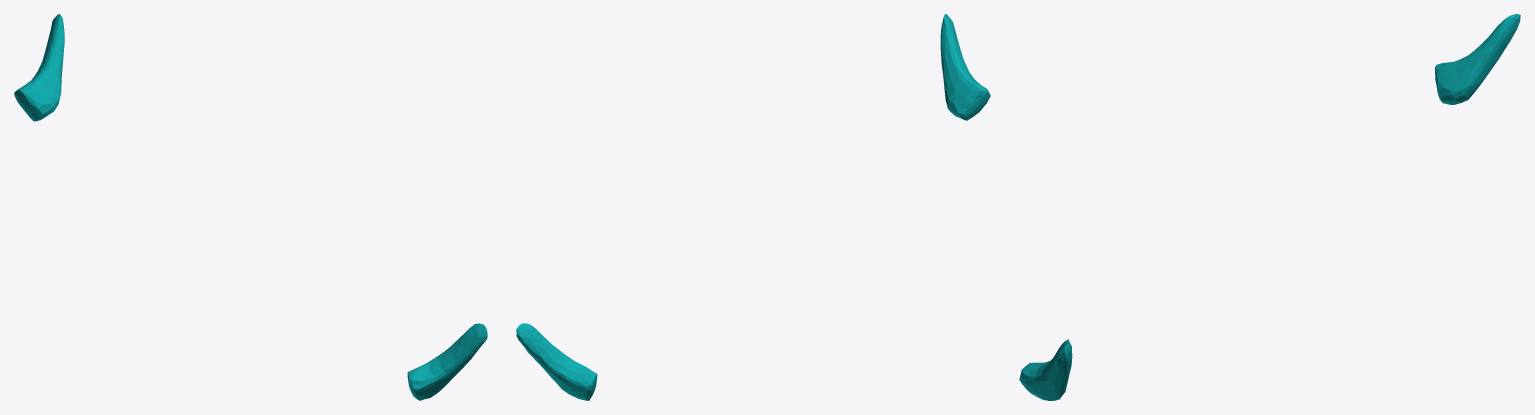
3 renders of one model, left to right at view 1: azimuth 30°, elevation 25°; view 2: azimuth 150°, elevation 25°; view 3: azimuth 330°, elevation 25°, orthographic. The views are drawn at different scales.
Parts seen in each view (by area): view 1: 791.obj; view 2: 791.obj; view 3: 791.obj.
Boxes of the visible parts, box(x1,y1,x2,y2) form: 791.obj: box(14, 14, 487, 400); 791.obj: box(516, 14, 990, 400); 791.obj: box(1019, 14, 1520, 400).
Bounding box in the file's own units: 727 × 931 × 8946.
